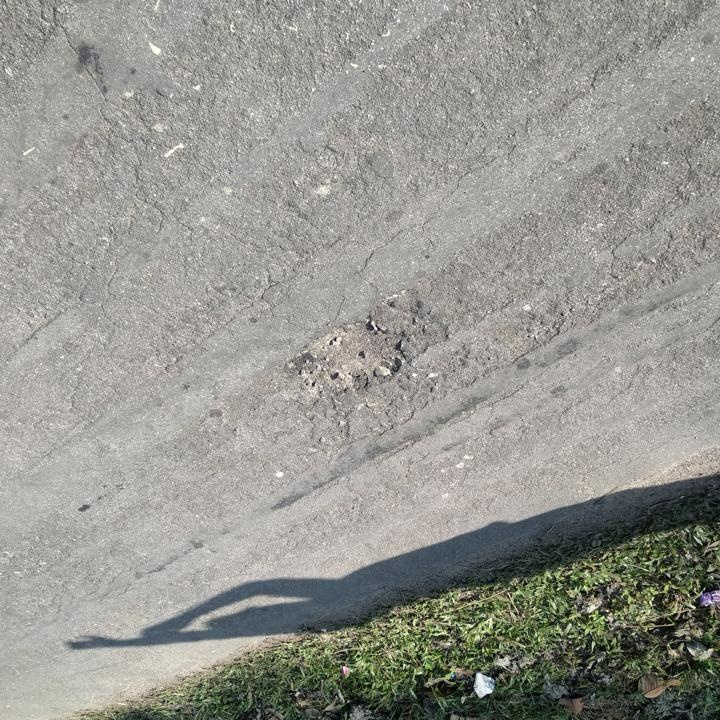pothole: (296, 316, 409, 397)
